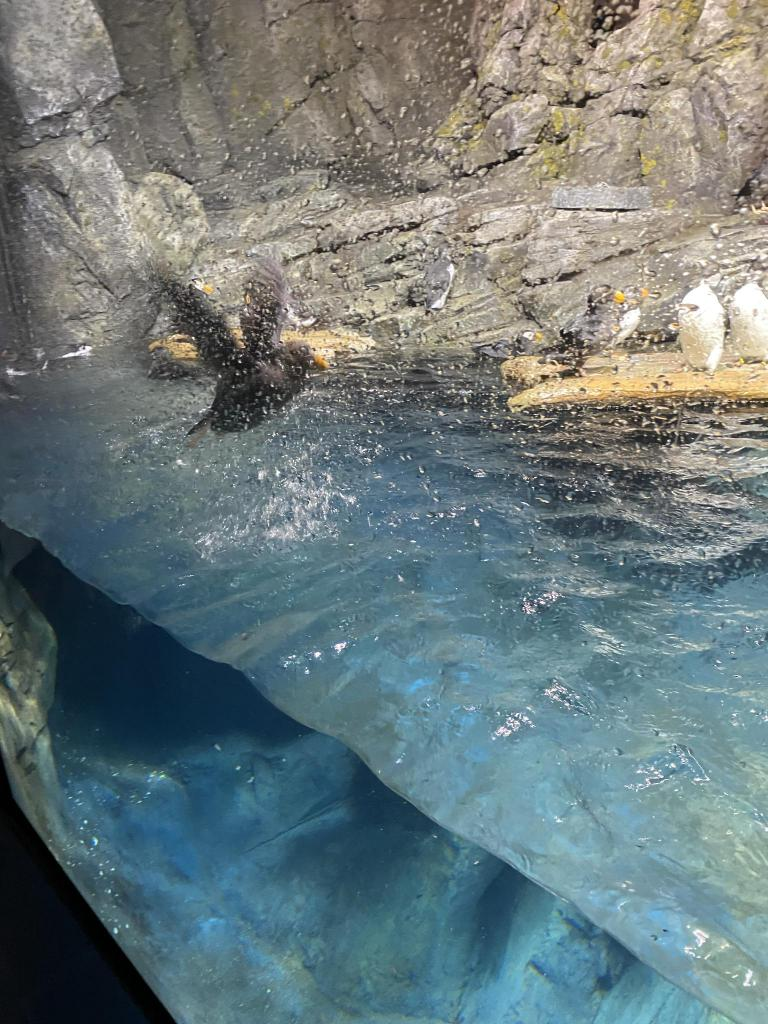puffin: (168, 274, 330, 444), (564, 286, 634, 388), (599, 278, 653, 360), (482, 322, 552, 378), (414, 251, 460, 313)
